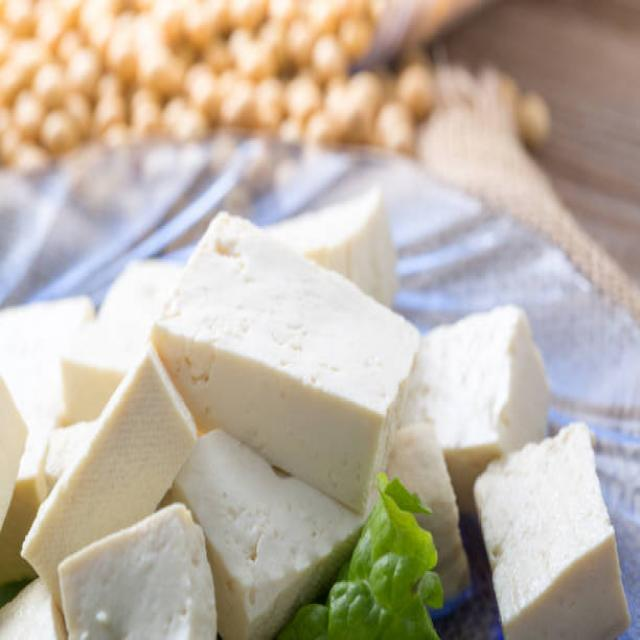tofu: (170, 211, 423, 487), (476, 419, 626, 640), (63, 509, 216, 640), (432, 301, 552, 456), (97, 356, 197, 506)
